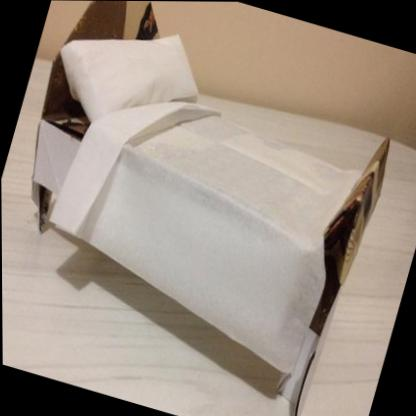Bed: (0, 0, 413, 416)
